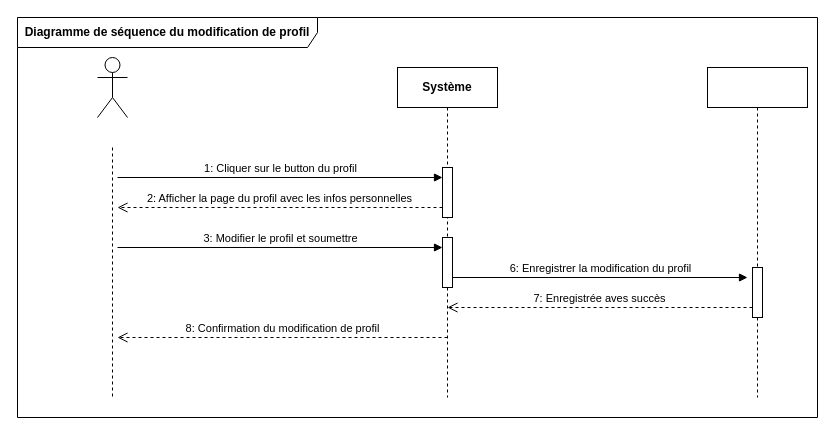
Some shapes in this 835 by 435 pixel diagram are drawn without their labels. The centre of each missing label's shape, as x and y in pixels:
Patient: point (112, 87)
SGBD: point (757, 232)
